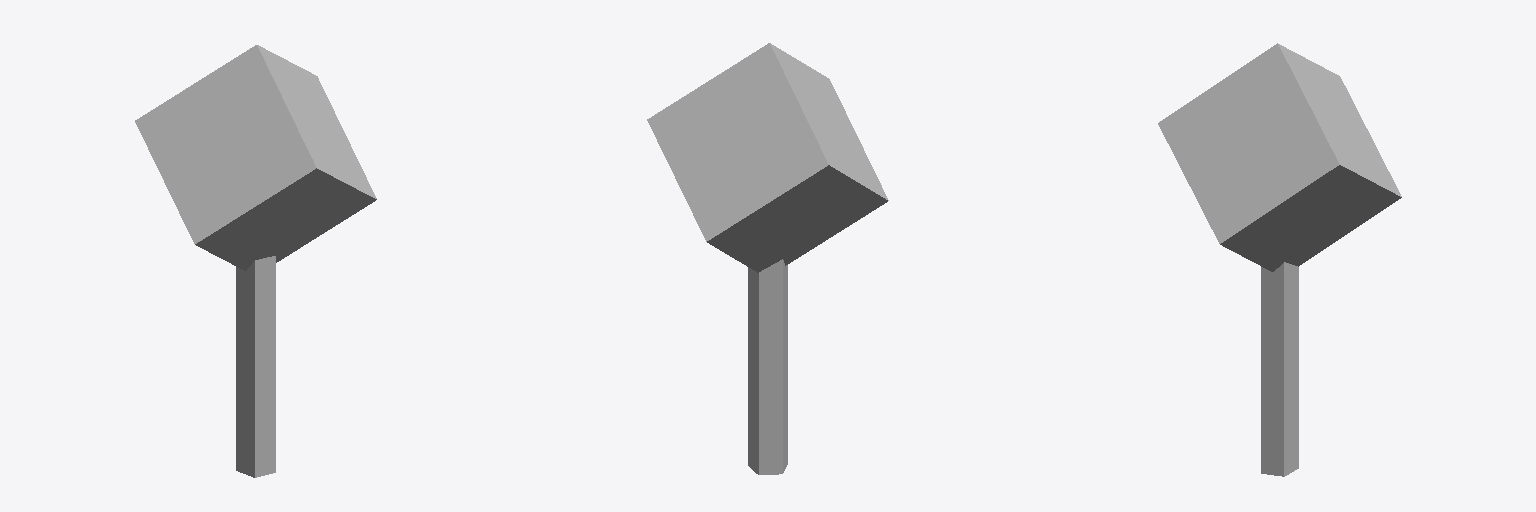
The model's file is tree.obj.
3 views of the same model, side by side, from view 1: azimuth 30°, elevation 25°; view 2: azimuth 150°, elevation 25°; view 3: azimuth 270°, elevation 25° (orthographic).
Parts seen in each view (by area): view 1: Circle_Circle.006; view 2: Circle_Circle.006; view 3: Circle_Circle.006.
Boxes of the visible parts, x1,y1,x2,y2 form: Circle_Circle.006: [135, 45, 376, 477]; Circle_Circle.006: [647, 43, 888, 474]; Circle_Circle.006: [1158, 43, 1401, 476].
Bounding box in the file's own units: 0.7975 × 1.78 × 0.9266.